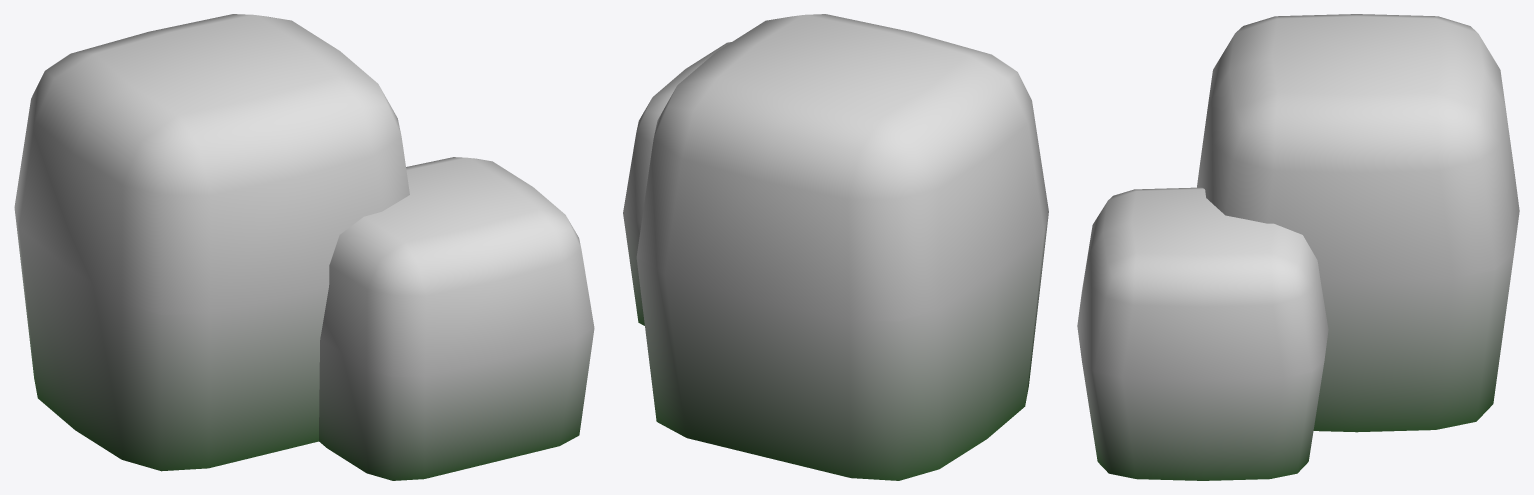
Rendered from NF_Veg_Bush_05.fbx.
The picture shows the model from 3 angles, left to right: view 1: azimuth 30°, elevation 25°; view 2: azimuth 150°, elevation 25°; view 3: azimuth 270°, elevation 25°; orthographic projection. The views are drawn at different scales.
Parts seen in each view (by area): view 1: Bush 05; view 2: Bush 05; view 3: Bush 05.
Part boxes in pixels (bbox=[...]): Bush 05: bbox=[14, 14, 594, 480]; Bush 05: bbox=[623, 14, 1048, 480]; Bush 05: bbox=[1077, 14, 1519, 480].
Bounding box in the file's own units: 1.15 × 0.8995 × 1.16.
